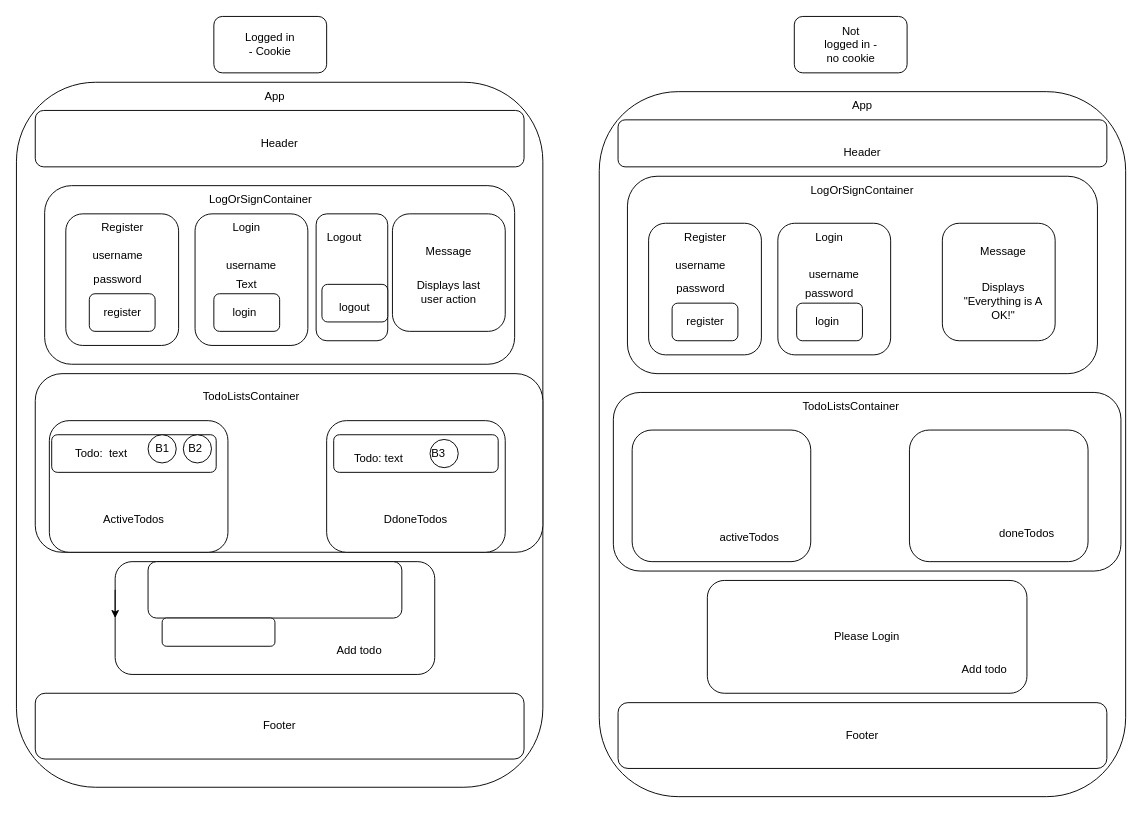
Image size: 1142x813. Some labels were removed from this diagram. Each missing label, with the box of its shape:
Add Todo Btn: (161, 617, 275, 646)
Text Area: (147, 561, 402, 618)
